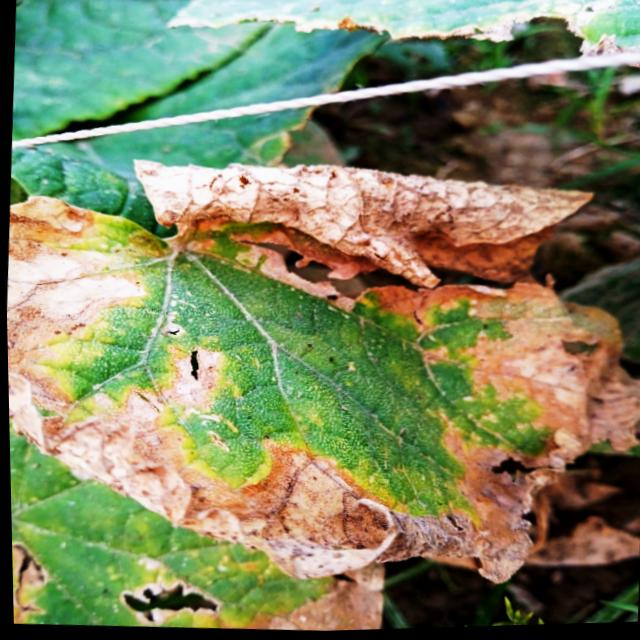Gummy-Stem-Blight: (4, 139, 640, 607)
